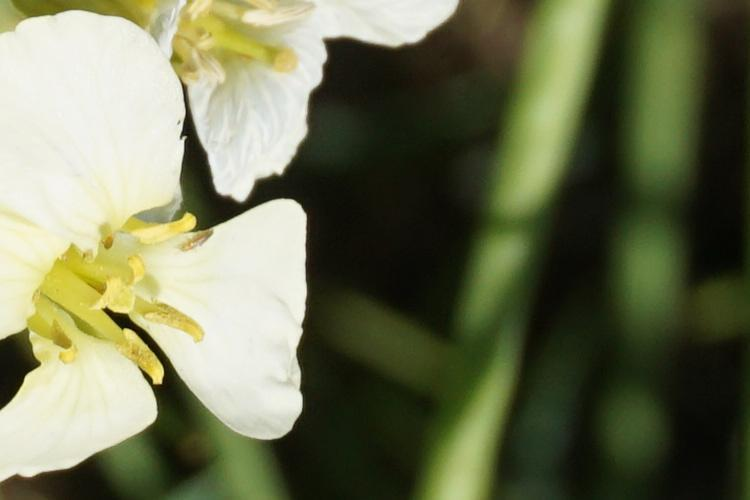white: (2, 13, 342, 472)
